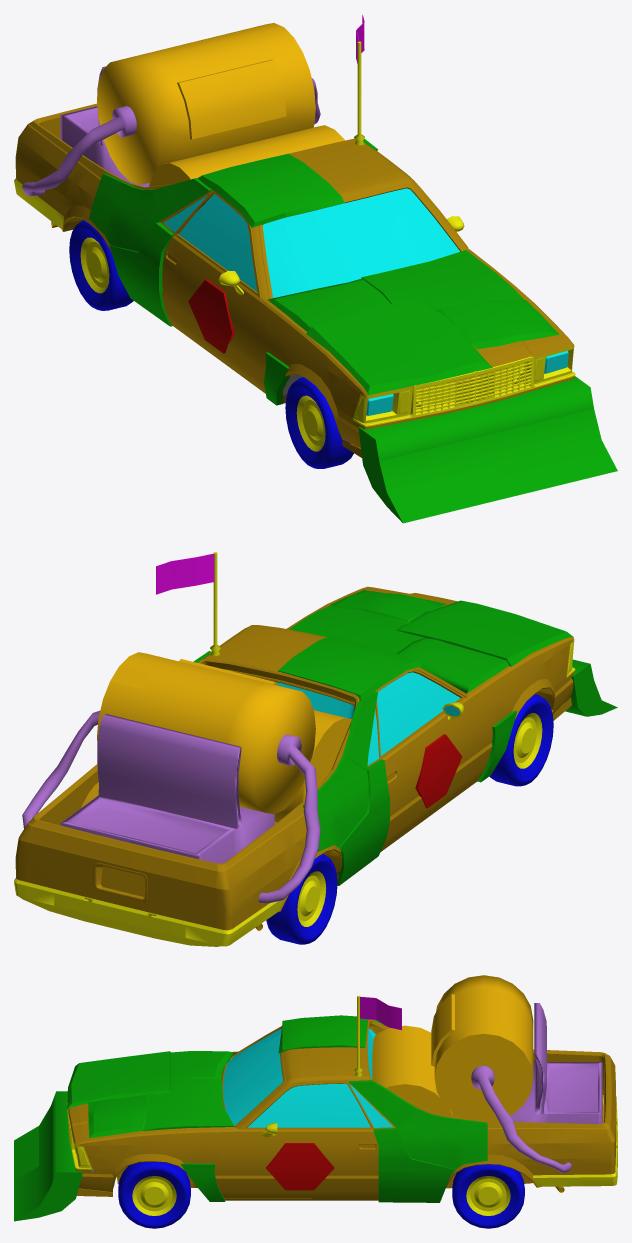
The model's file is Auto1.fbx.
The picture shows the model from 3 angles, top to bottom: view 1: azimuth 30°, elevation 25°; view 2: azimuth 150°, elevation 25°; view 3: azimuth 270°, elevation 25°; orthographic projection. The views are drawn at different scales.
Parts seen in each view (by area): view 1: cuerpo, pCylinder2, pCube1, pCube5, pCube4, pCube8, rueda3, pCube6, pCylinder1, pCube12, rueda4, pCube7 (+6 smaller); view 2: cuerpo, pCube3, pCylinder2, pCube5, pCube4, pCylinder3, rueda4, rueda3, pCube12, pCube8, pCube10, pCube7 (+8 smaller); view 3: cuerpo, pCylinder2, pCube1, pCube3, pCylinder1, pCube5, rueda1, pCube12, rueda2, pCube10, pCube8, pCube4 (+7 smaller).
Boxes of the visible parts, bbox=[...] form: cuerpo: bbox=[14, 103, 575, 457]; pCylinder2: bbox=[97, 23, 315, 184]; pCube1: bbox=[358, 376, 617, 523]; pCube5: bbox=[306, 298, 492, 395]; pCube4: bbox=[198, 153, 344, 227]; pCube8: bbox=[361, 250, 523, 311]; rueda3: bbox=[285, 377, 353, 468]; pCube6: bbox=[439, 299, 559, 349]; pCylinder1: bbox=[149, 125, 344, 186]; pCube12: bbox=[89, 173, 158, 251]; rueda4: bbox=[69, 220, 133, 310]; pCube7: bbox=[268, 278, 390, 331]; cuerpo: bbox=[14, 586, 575, 946]; pCube3: bbox=[60, 714, 274, 863]; pCylinder2: bbox=[97, 652, 315, 814]; pCube5: bbox=[396, 600, 573, 666]; pCube4: bbox=[278, 635, 421, 700]; pCylinder3: bbox=[22, 710, 320, 903]; rueda4: bbox=[266, 854, 337, 944]; rueda3: bbox=[489, 694, 553, 786]; pCube12: bbox=[303, 755, 368, 851]; pCube8: bbox=[289, 605, 424, 653]; pCube10: bbox=[337, 759, 389, 885]; pCube7: bbox=[397, 638, 509, 693]; cuerpo: bbox=[67, 1019, 617, 1200]; pCylinder2: bbox=[431, 975, 533, 1120]; pCube1: bbox=[14, 1091, 82, 1221]; pCube3: bbox=[510, 1003, 602, 1123]; pCylinder1: bbox=[372, 1025, 454, 1117]; pCube5: bbox=[67, 1051, 170, 1109]; rueda1: bbox=[118, 1162, 190, 1228]; pCube12: bbox=[397, 1108, 487, 1169]; rueda2: bbox=[452, 1164, 524, 1228]; pCube10: bbox=[373, 1128, 455, 1202]; pCube8: bbox=[142, 1078, 233, 1130]; pCube4: bbox=[278, 1015, 368, 1053].
Size of the model in its own units: 217 by 213 by 529.
